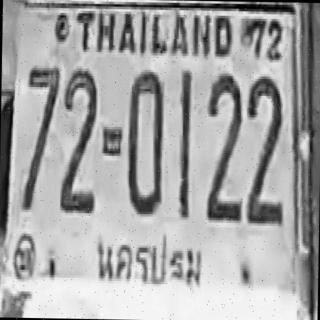N00: (126, 69, 163, 214)
N01: (0, 89, 14, 240), (178, 69, 192, 218)
N02: (243, 74, 283, 226), (60, 67, 98, 214), (205, 73, 243, 220)
N07: (21, 65, 60, 210), (24, 65, 60, 208)
P28: (88, 231, 207, 295)
